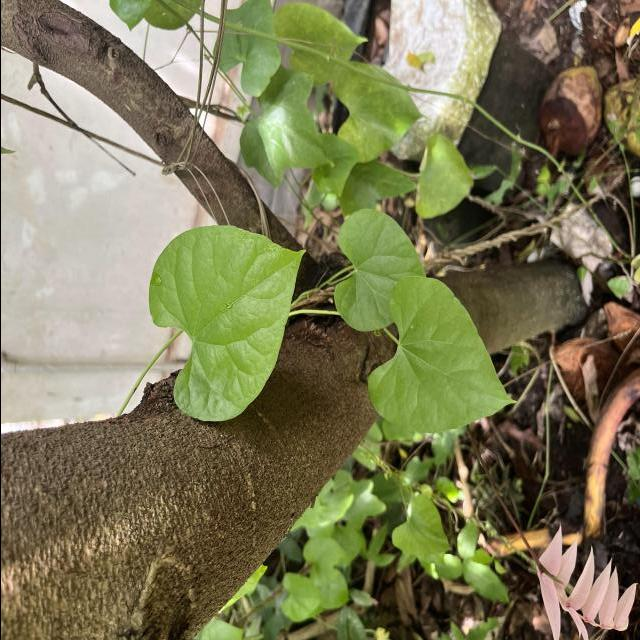Tinospora cordifolia: (144, 223, 308, 425), (363, 272, 519, 436), (330, 206, 426, 334)
